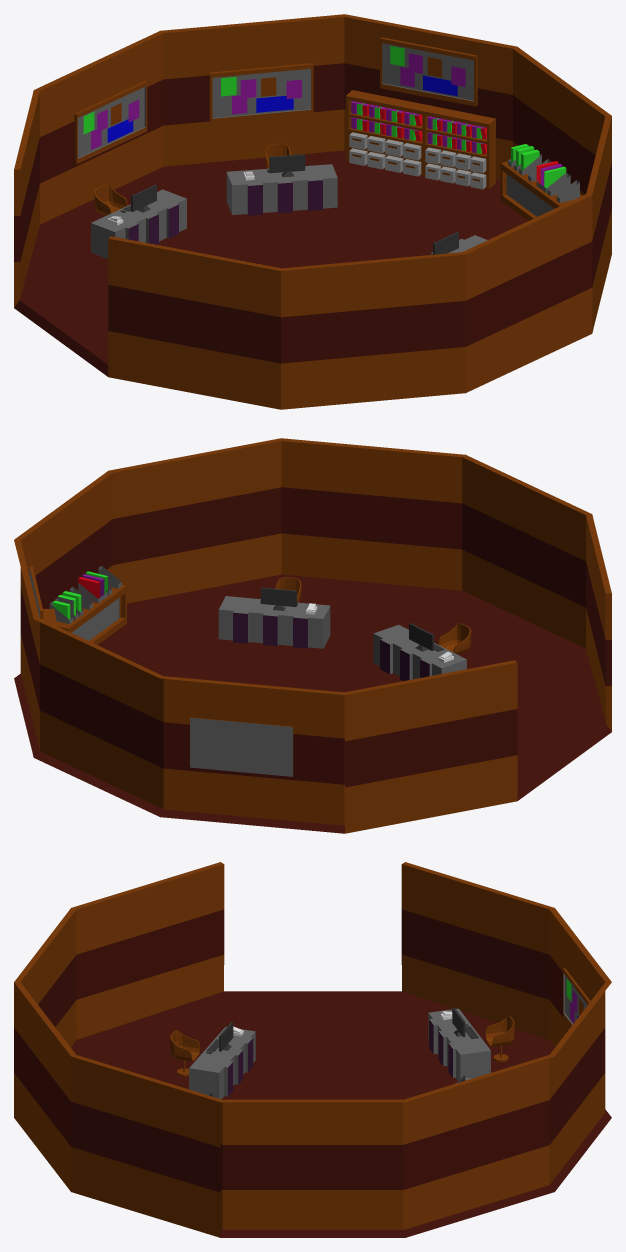
Rendered from Level4 Marketing.fbx.
3 renders of one model, top to bottom at view 1: azimuth 30°, elevation 25°; view 2: azimuth 150°, elevation 25°; view 3: azimuth 270°, elevation 25°, orthographic. The views are drawn at different scales.
Visible parts, largest first — view 1: Circle, Cube.021, Cube.019, Plane.004, Cube.020, Plane.006, Cube.016, Cube.022, Plane.005, Cube.024; view 2: Circle, Cube.024, Plane.005, Cube.026, Cube.022; view 3: Circle, Cube.026, Cube.016, Plane.005.
Boxes of the visible parts, left/top/right/bottom form: Circle: left=14, top=14, right=611, bottom=409; Cube.021: left=345, top=90, right=430, bottom=176; Cube.019: left=226, top=143, right=337, bottom=215; Plane.004: left=209, top=63, right=313, bottom=123; Cube.020: left=424, top=105, right=495, bottom=189; Plane.006: left=380, top=37, right=477, bottom=106; Cube.016: left=91, top=184, right=186, bottom=258; Cube.022: left=500, top=144, right=581, bottom=220; Plane.005: left=74, top=81, right=147, bottom=164; Cube.024: left=431, top=232, right=487, bottom=254; Circle: left=14, top=438, right=611, bottom=833; Cube.024: left=218, top=577, right=330, bottom=648; Plane.005: left=190, top=717, right=293, bottom=776; Cube.026: left=373, top=623, right=471, bottom=680; Cube.022: left=49, top=565, right=126, bottom=644; Circle: left=14, top=862, right=611, bottom=1237; Cube.026: left=170, top=1022, right=255, bottom=1099; Cube.016: left=428, top=1007, right=514, bottom=1080; Plane.005: left=563, top=968, right=590, bottom=1026.
Size of the model in its own units: 8818 by 2320 by 9272.
